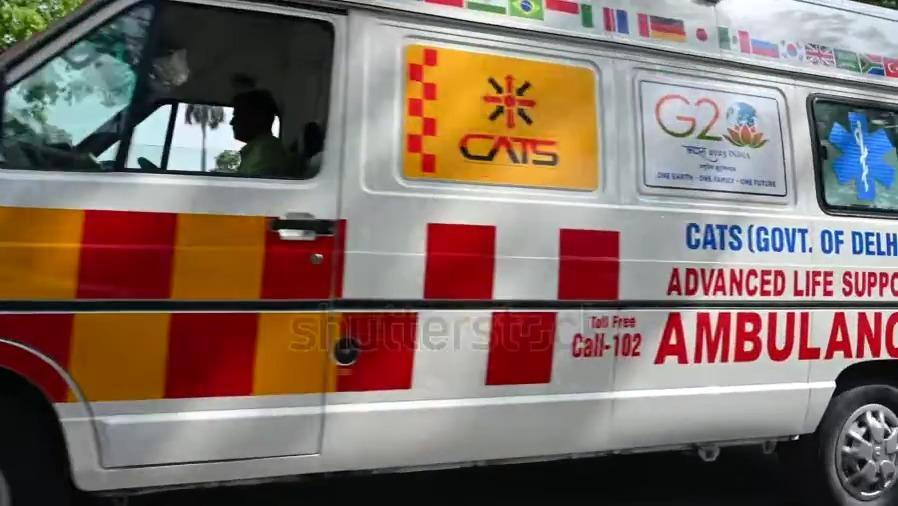Ambulance: (645, 308, 898, 375), (826, 110, 896, 202)
